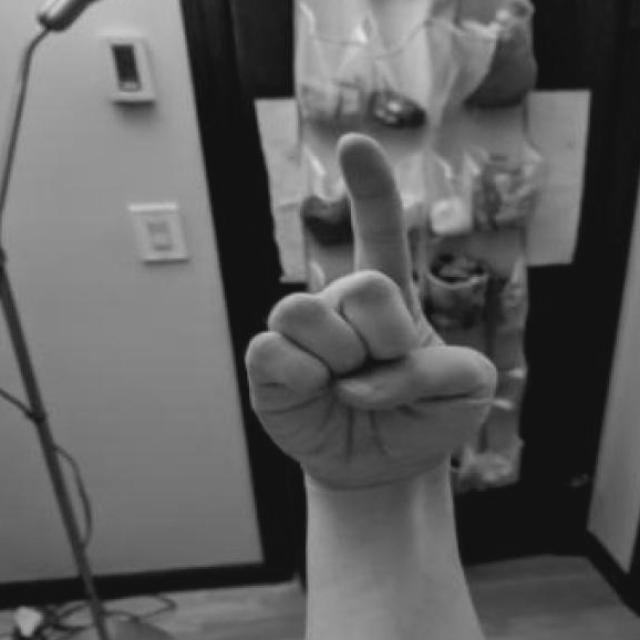D: (219, 125, 508, 524)
